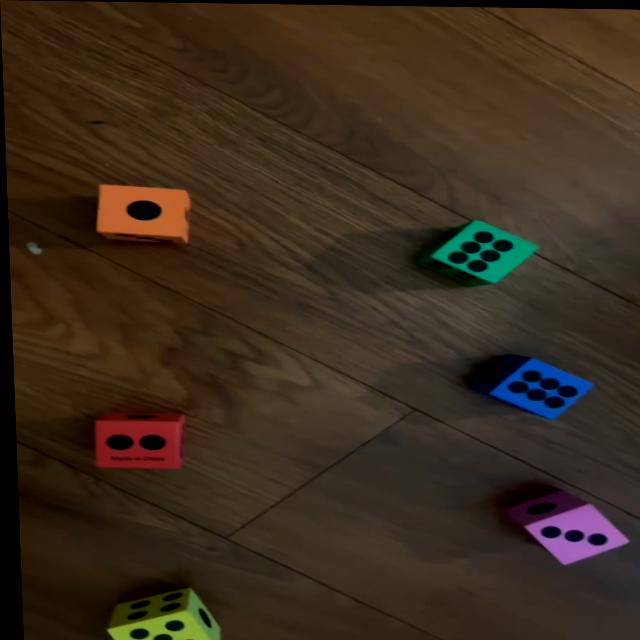cube: (462, 350, 590, 421), (414, 217, 540, 285), (92, 411, 184, 469)
